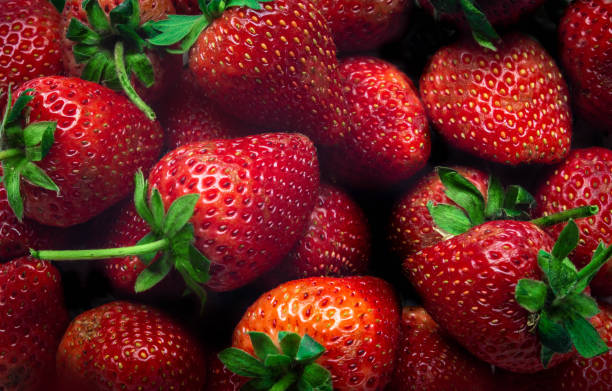Fresa: (399, 215, 600, 380), (141, 126, 328, 291), (181, 1, 358, 155), (3, 70, 170, 229), (223, 265, 406, 391), (418, 27, 579, 170)
